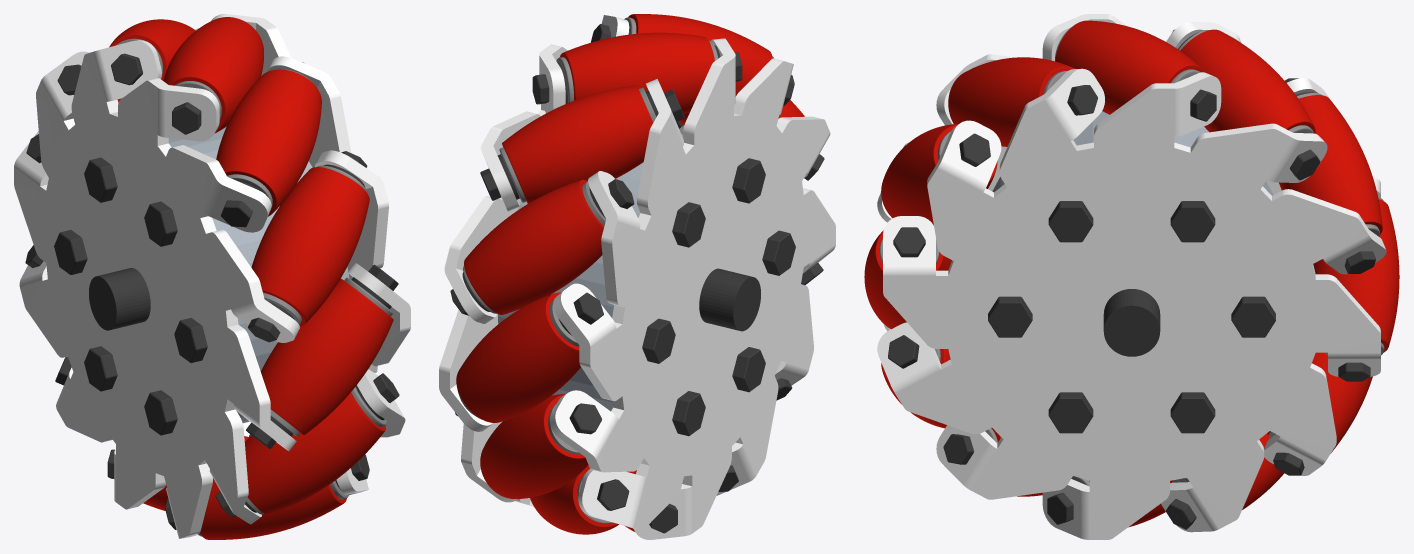
Rendered from mecanum.glb.
The picture shows the model from 3 angles, left to right: view 1: azimuth 30°, elevation 25°; view 2: azimuth 150°, elevation 25°; view 3: azimuth 270°, elevation 25°; orthographic projection.
Visible parts, largest first — view 1: Mecanum Outer_12, Mec Rollers_11, Bolts_6, Rollers Bolts_10, Mec Axle_7, Mec Hub_9; view 2: Mecanum Outer_12, Mec Rollers_11, Bolts_6, Rollers Bolts_10, Mec Axle_7, Mec Hub_9; view 3: Mecanum Outer_12, Mec Rollers_11, Bolts_6, Rollers Bolts_10, Mec Axle_7, Mec Hub_9.
Part boxes in pixels (bbox=[...]): Mecanum Outer_12: bbox=[14, 14, 410, 538]; Mec Rollers_11: bbox=[109, 17, 393, 539]; Bolts_6: bbox=[54, 157, 207, 435]; Rollers Bolts_10: bbox=[25, 53, 399, 529]; Mec Axle_7: bbox=[89, 268, 150, 330]; Mec Hub_9: bbox=[168, 126, 349, 423]; Mecanum Outer_12: bbox=[439, 15, 835, 539]; Mec Rollers_11: bbox=[456, 14, 804, 534]; Bolts_6: bbox=[642, 158, 795, 436]; Rollers Bolts_10: bbox=[450, 24, 824, 533]; Mec Axle_7: bbox=[699, 268, 760, 331]; Mec Hub_9: bbox=[498, 134, 683, 411]; Mecanum Outer_12: bbox=[877, 14, 1386, 539]; Mec Rollers_11: bbox=[864, 20, 1399, 527]; Bolts_6: bbox=[988, 201, 1275, 433]; Rollers Bolts_10: bbox=[888, 29, 1375, 529]; Mec Axle_7: bbox=[1103, 289, 1160, 356]; Mec Hub_9: bbox=[992, 111, 1272, 195].
Bounding box in the file's own units: 1 × 2.08 × 2.08.
